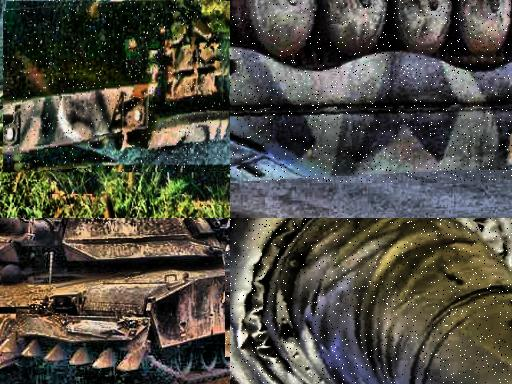tanks: (231, 1, 512, 183), (231, 219, 512, 384), (5, 1, 226, 173), (1, 219, 231, 378), (227, 252, 231, 358)
